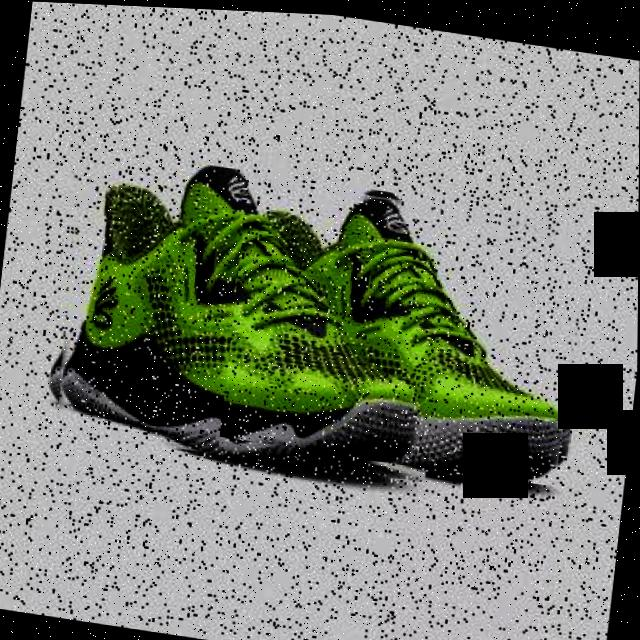shoe: (42, 143, 456, 484), (220, 170, 596, 484)
